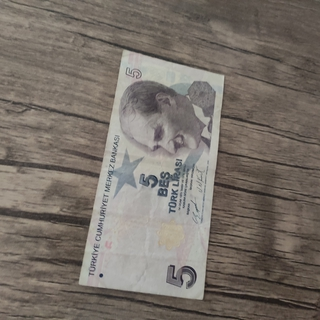5TLFront: (77, 48, 225, 302)
